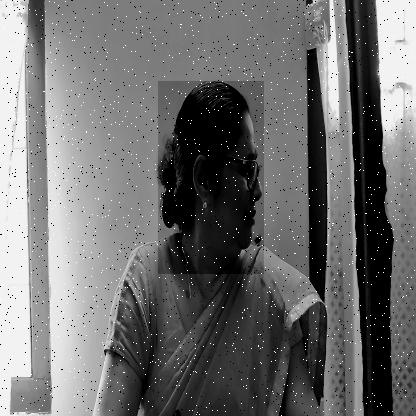Distracted: (158, 81, 264, 274)
